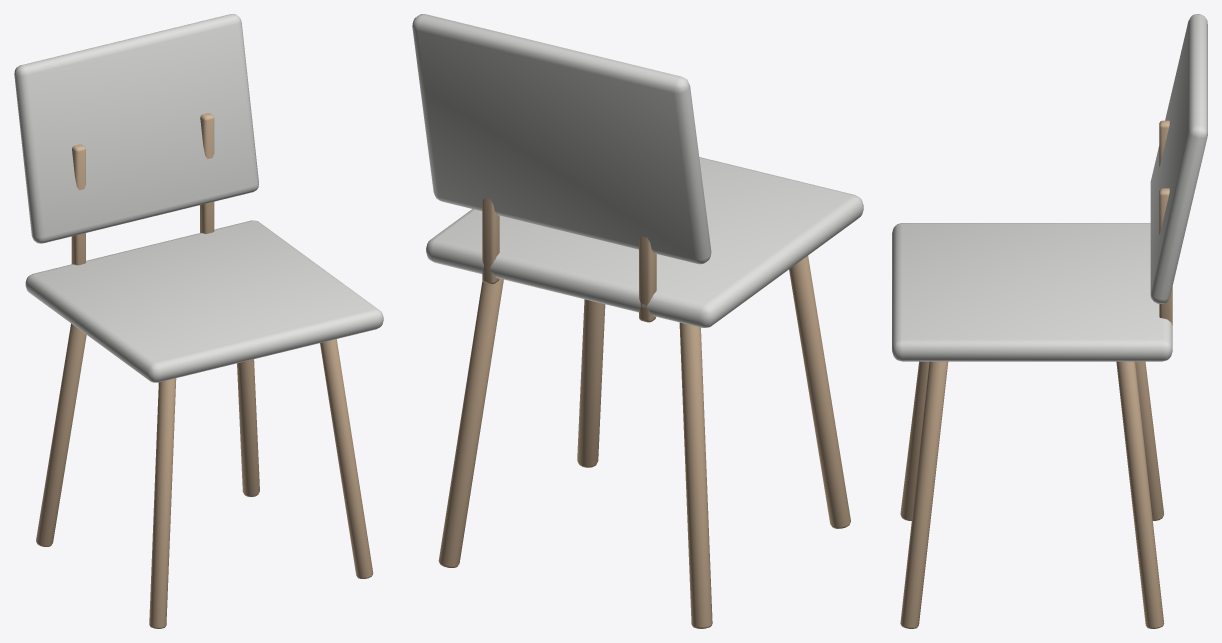
The model's file is cafe_chair.glb.
The picture shows the model from 3 angles, left to right: view 1: azimuth 30°, elevation 25°; view 2: azimuth 150°, elevation 25°; view 3: azimuth 270°, elevation 25°; orthographic projection. The views are drawn at different scales.
Visible parts, largest first — view 1: Cube, Cube.002; view 2: Cube, Cube.002; view 3: Cube, Cube.002.
Part boxes in pixels (bbox=[...]): Cube: bbox=[14, 14, 383, 382]; Cube.002: bbox=[36, 113, 373, 628]; Cube: bbox=[412, 14, 863, 327]; Cube.002: bbox=[438, 198, 850, 628]; Cube: bbox=[892, 14, 1207, 361]; Cube.002: bbox=[900, 120, 1172, 628].
Size of the model in its own units: 0.44 by 0.8308 by 0.4729.
